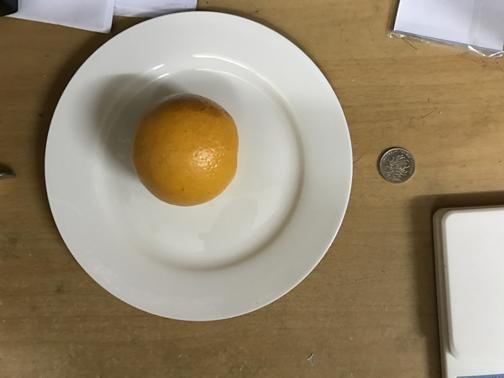coin: (378, 147, 415, 183)
orange: (132, 93, 237, 205)
